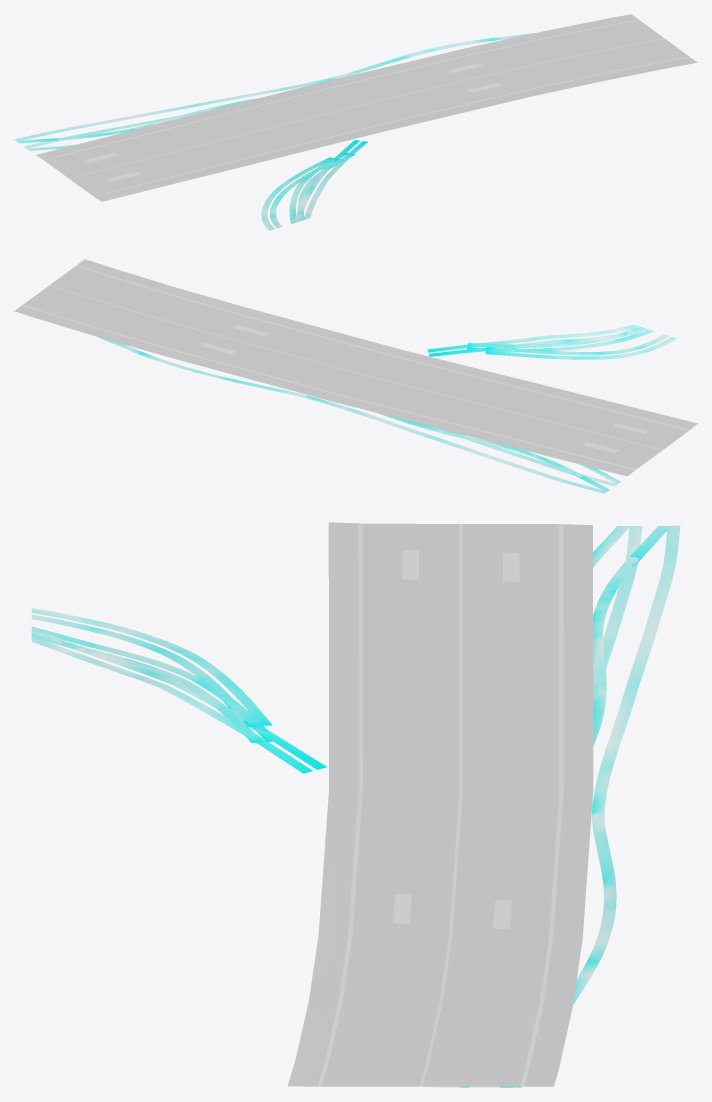
The model's file is cell_172_122.fbx.
The picture shows the model from 3 angles, top to bottom: view 1: azimuth 30°, elevation 25°; view 2: azimuth 150°, elevation 25°; view 3: azimuth 270°, elevation 25°; orthographic projection. The views are drawn at different scales.
Visible parts, largest first — view 1: SpaceCenter_Long3_GenerateRoad_Asphalt_Mesh_x107_y76_16982_H, SpaceCenter_Long3_GenerateRoad_Sand_TireTracks_Narrow_Mesh_., SpaceCenter_Long3_GenerateRoad_JTDecal_Asphalt_BM_Line_Mesh.; view 2: SpaceCenter_Long3_GenerateRoad_Asphalt_Mesh_x107_y76_16982_H, SpaceCenter_Long3_GenerateRoad_Sand_TireTracks_Narrow_Mesh_., SpaceCenter_Long3_GenerateRoad_JTDecal_Asphalt_BM_Line_Mesh.; view 3: SpaceCenter_Long3_GenerateRoad_Asphalt_Mesh_x107_y76_16982_H, SpaceCenter_Long3_GenerateRoad_Sand_TireTracks_Narrow_Mesh_., SpaceCenter_Long3_GenerateRoad_JTDecal_Asphalt_BM_Line_Mesh..
Boxes of the visible parts, box(x1,y1,x2,y2) form: SpaceCenter_Long3_GenerateRoad_Asphalt_Mesh_x107_y76_16982_H: box(36, 14, 697, 201); SpaceCenter_Long3_GenerateRoad_Sand_TireTracks_Narrow_Mesh_.: box(14, 33, 534, 230); SpaceCenter_Long3_GenerateRoad_JTDecal_Asphalt_BM_Line_Mesh.: box(85, 63, 501, 181); SpaceCenter_Long3_GenerateRoad_Asphalt_Mesh_x107_y76_16982_H: box(14, 259, 697, 476); SpaceCenter_Long3_GenerateRoad_Sand_TireTracks_Narrow_Mesh_.: box(98, 324, 677, 493); SpaceCenter_Long3_GenerateRoad_JTDecal_Asphalt_BM_Line_Mesh.: box(200, 325, 648, 453); SpaceCenter_Long3_GenerateRoad_Asphalt_Mesh_x107_y76_16982_H: box(287, 522, 593, 1086); SpaceCenter_Long3_GenerateRoad_Sand_TireTracks_Narrow_Mesh_.: box(31, 525, 680, 1087); SpaceCenter_Long3_GenerateRoad_JTDecal_Asphalt_BM_Line_Mesh.: box(393, 550, 519, 928).
Size of the model in its own units: 64 by 0.9161 by 30.7.
